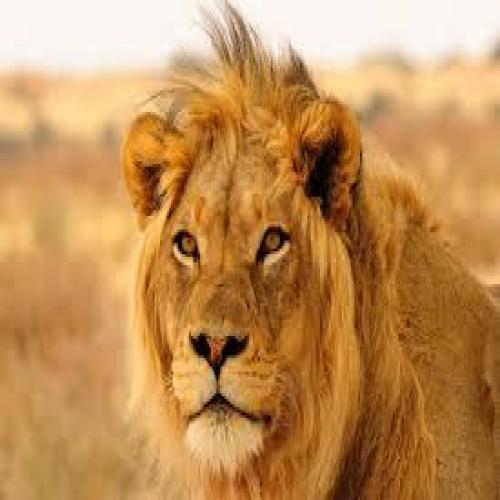lion-endangered: (122, 35, 500, 500)
